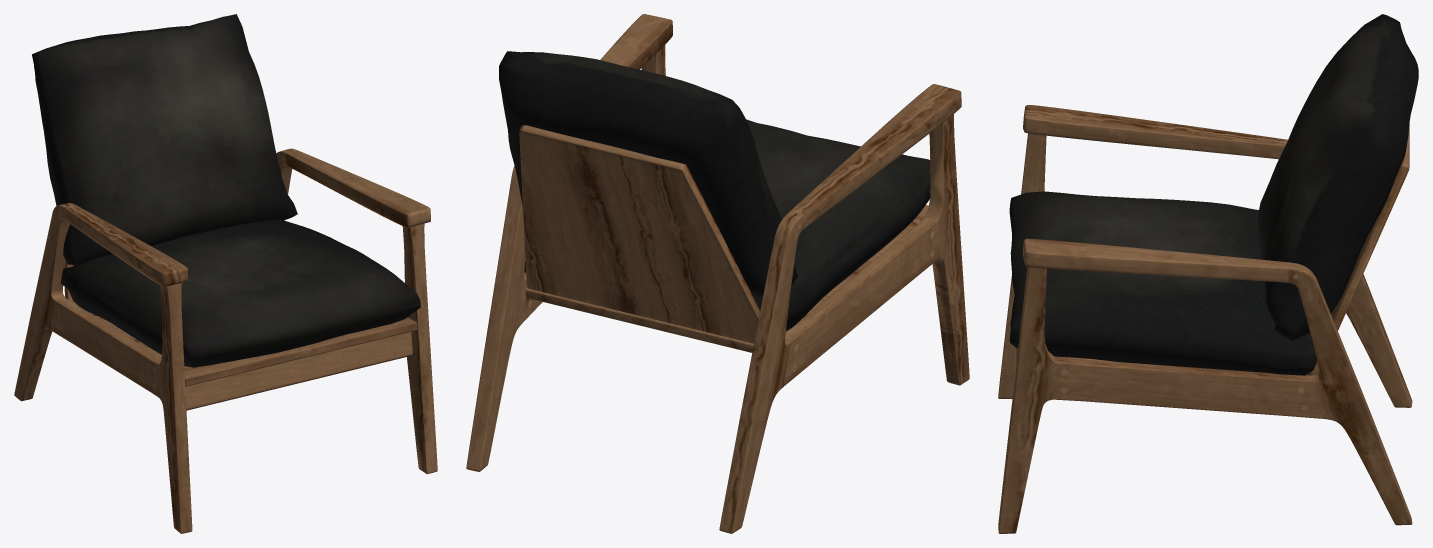
Rendered from modern_arm_chair_01.glb.
The picture shows the model from 3 angles, left to right: view 1: azimuth 30°, elevation 25°; view 2: azimuth 150°, elevation 25°; view 3: azimuth 270°, elevation 25°; orthographic projection. The views are drawn at different scales.
Visible parts, largest first — view 1: modern_arm_chair_01; view 2: modern_arm_chair_01; view 3: modern_arm_chair_01.
Boxes of the visible parts, x1,y1,x2,y2 form: modern_arm_chair_01: (14, 14, 437, 533); modern_arm_chair_01: (466, 14, 969, 533); modern_arm_chair_01: (998, 14, 1418, 533).
Size of the model in its own units: 0.8203 by 1.02 by 0.9865.
Materials: 2 (2 with a texture image).
